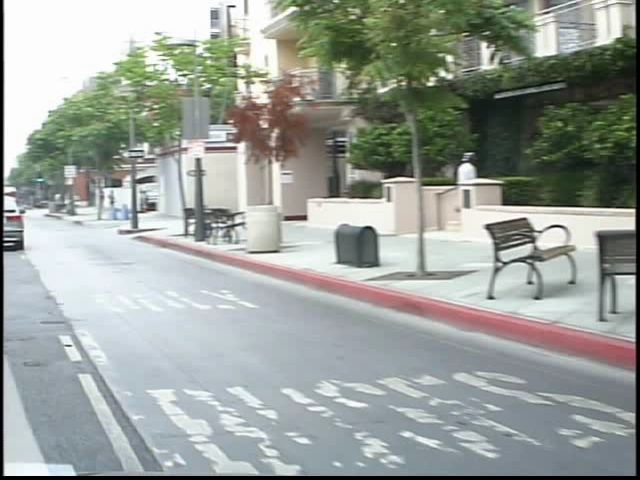person: (432, 146, 471, 233), (90, 183, 108, 217)
